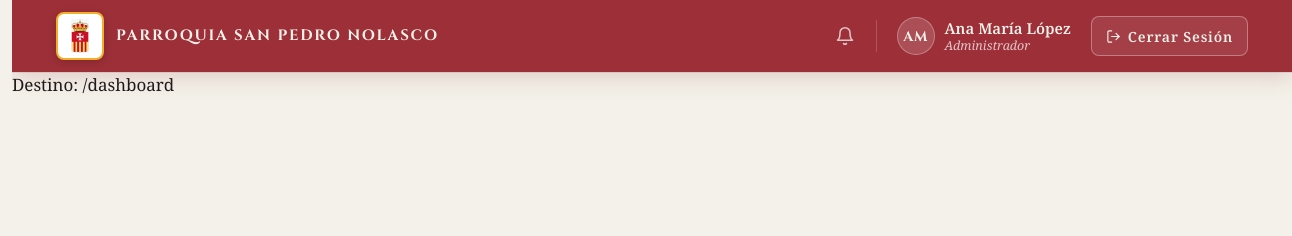
layout integrado con sesión y notificaciones › abre el buzón vacío y lo cierra al hacer clic fuera
Click the button titled "Notificaciones". click: x=844, y=36
box: [826, 17, 864, 55]
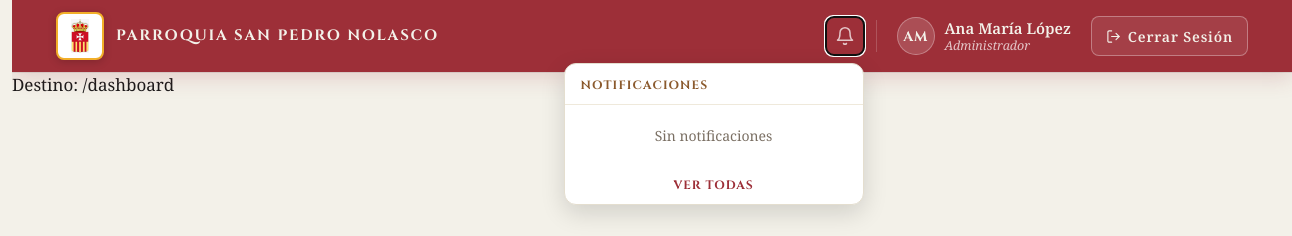
Result: the text "Sin notificaciones" is shown at [655, 126, 772, 145]
Press the mouse on the element that starts with "Parroquia San Pedro Nolasco" at x=652, y=49, box [12, 0, 1291, 98]
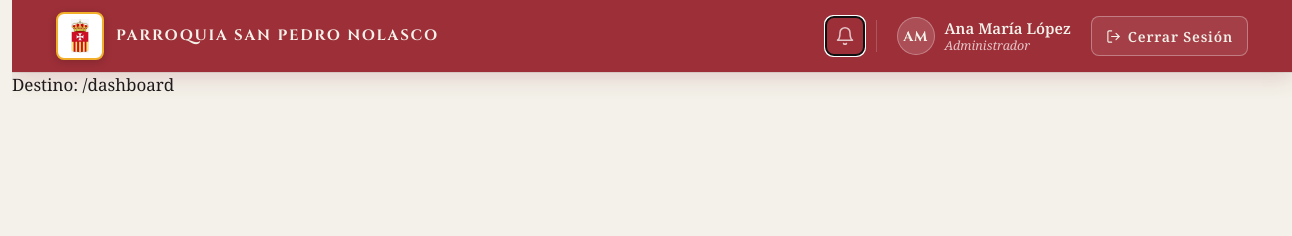
Result: the text "Sin notificaciones" is gone
